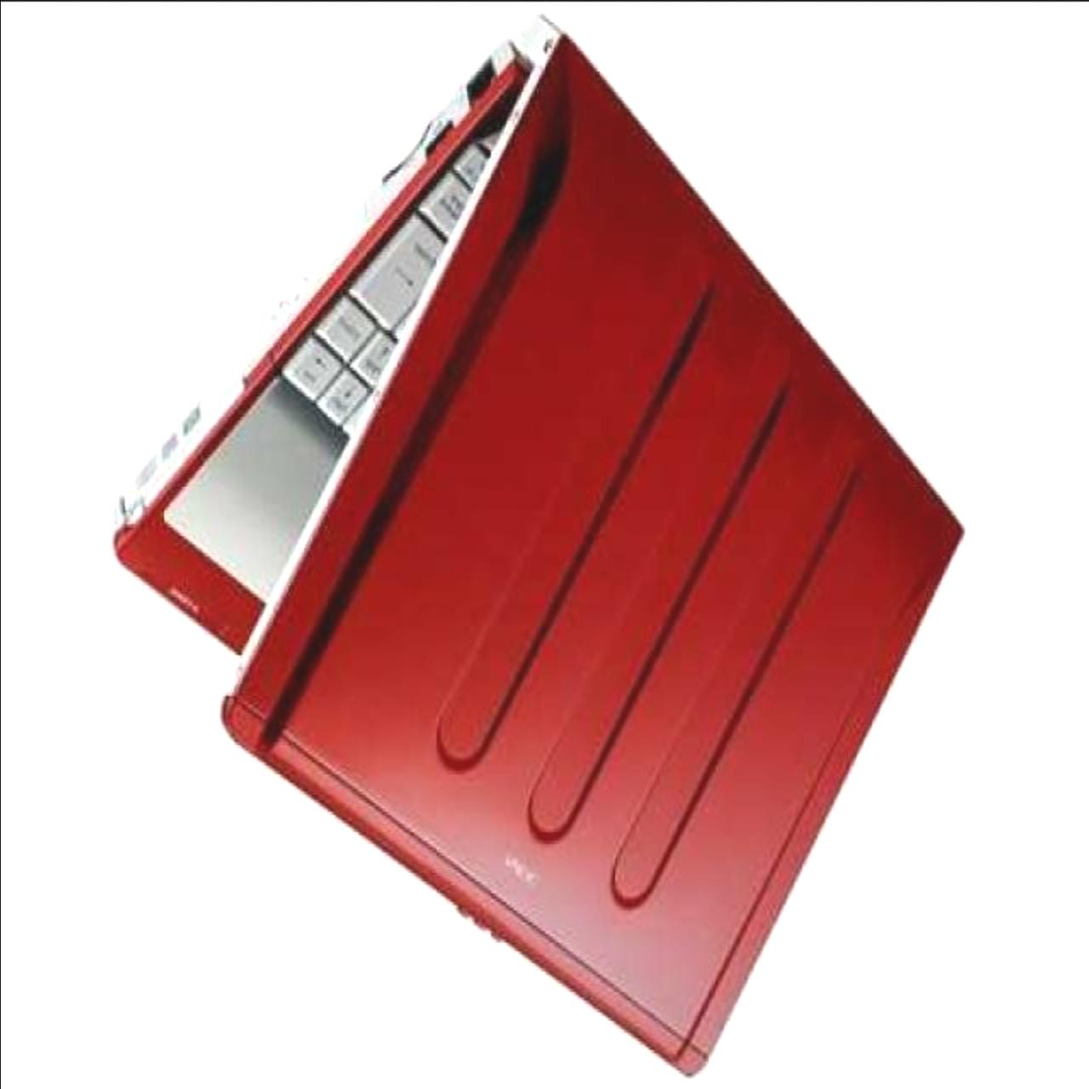laptop: (123, 22, 994, 1074)
